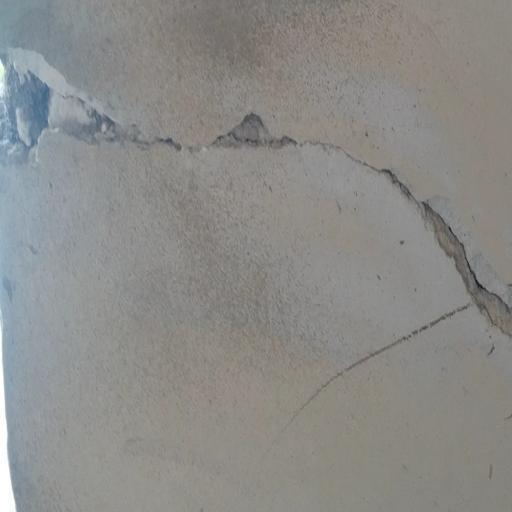major_crack: (0, 32, 512, 367)
